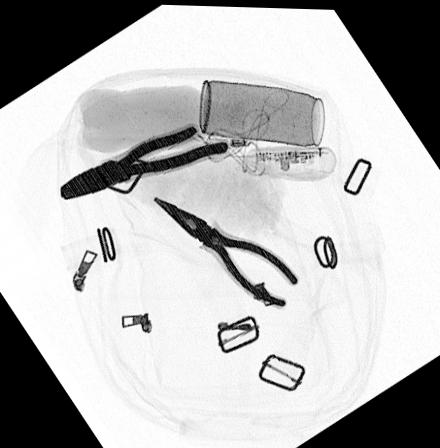Pliers: (150, 193, 301, 306), (56, 120, 230, 199)
